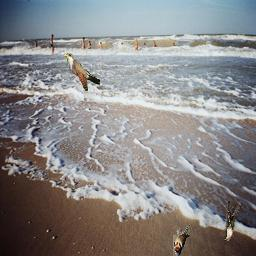Cuckoo: (64, 53, 100, 93), (224, 201, 241, 241)
Swallow: (173, 224, 190, 256)
